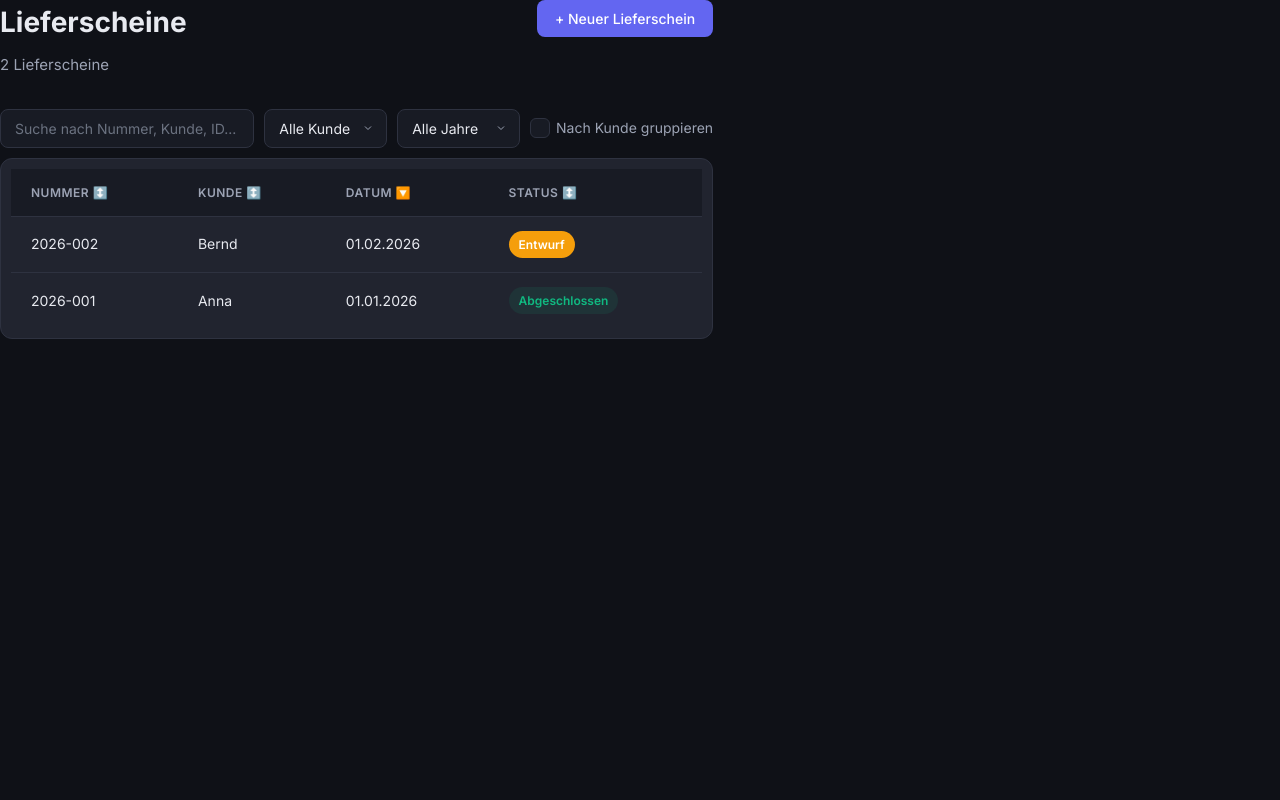
Test: DocumentManager › zeigt beim Lieferschein den gesendeten Wert brutto/netto samt Aufteilung (#241)
Step 1. Click the text "2026-001" → (94, 301), box [11,273,178,328]
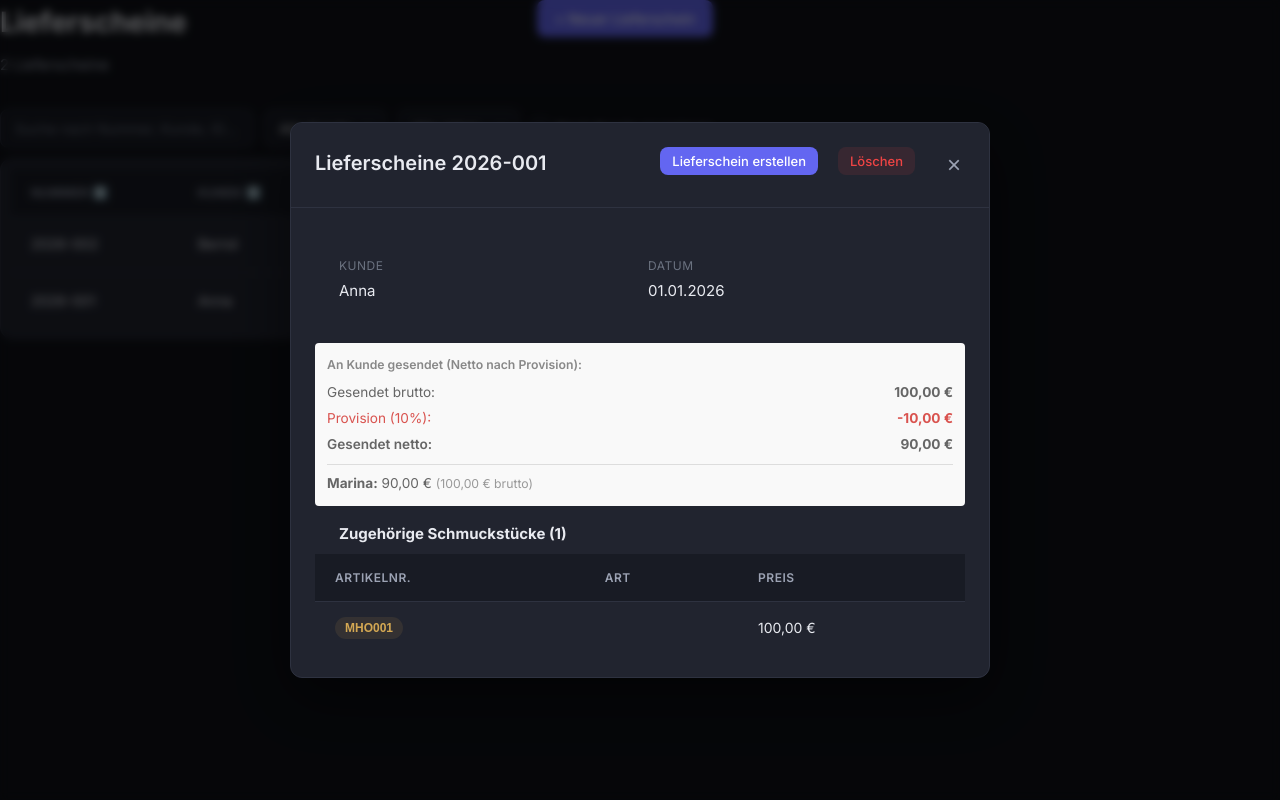
Expected: the text "An Kunde gesendet (Netto nach Provision):" is shown, [327,357,582,372]
Expected: the text "Gesendet brutto:" is shown, [327,382,435,404]
Expected: the text "Gesendet netto:" is shown, [327,434,432,456]
